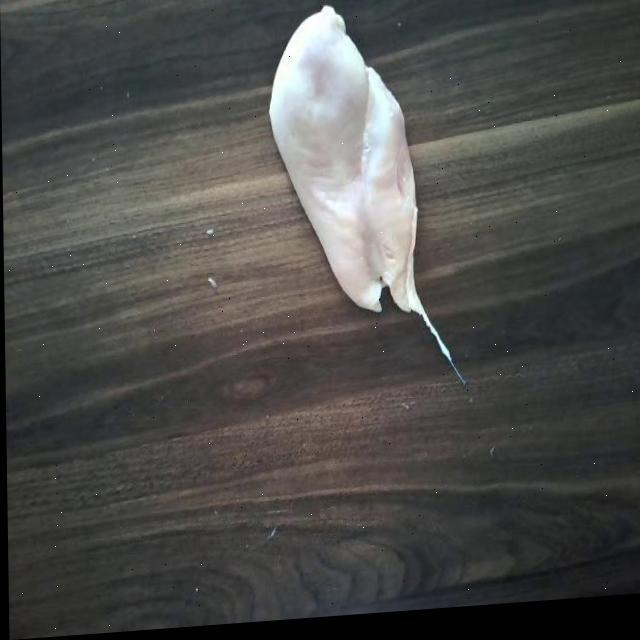breast: (266, 7, 432, 332)
